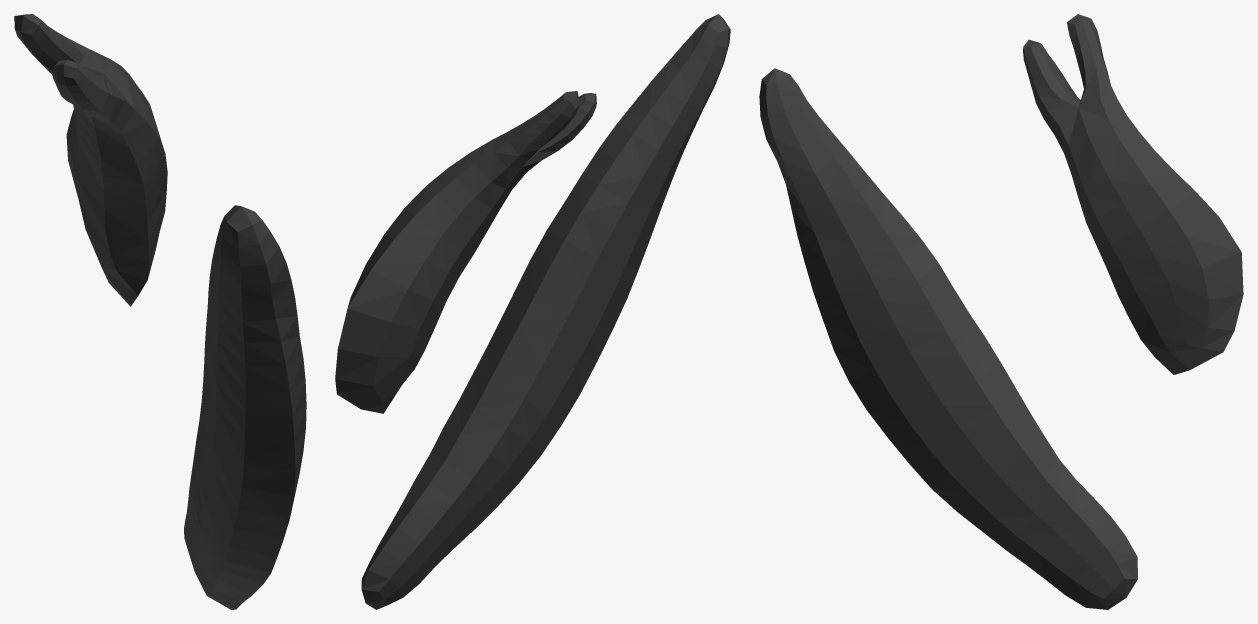
Rendered from Scalenus_ventralis.glb.
3 views of the same model, side by side, from view 1: azimuth 30°, elevation 25°; view 2: azimuth 150°, elevation 25°; view 3: azimuth 270°, elevation 25° (orthographic). The views are drawn at different scales.
Parts seen in each view (by area): view 1: Scalenus_ventralis; view 2: Scalenus_ventralis; view 3: Scalenus_ventralis.
Boxes of the visible parts, x1,y1,x2,y2 form: Scalenus_ventralis: (14, 14, 306, 609); Scalenus_ventralis: (335, 14, 730, 609); Scalenus_ventralis: (759, 14, 1243, 609).
Bounding box in the file's own units: 0.1002 × 0.2716 × 0.2327.
1 material, 1 textured.
